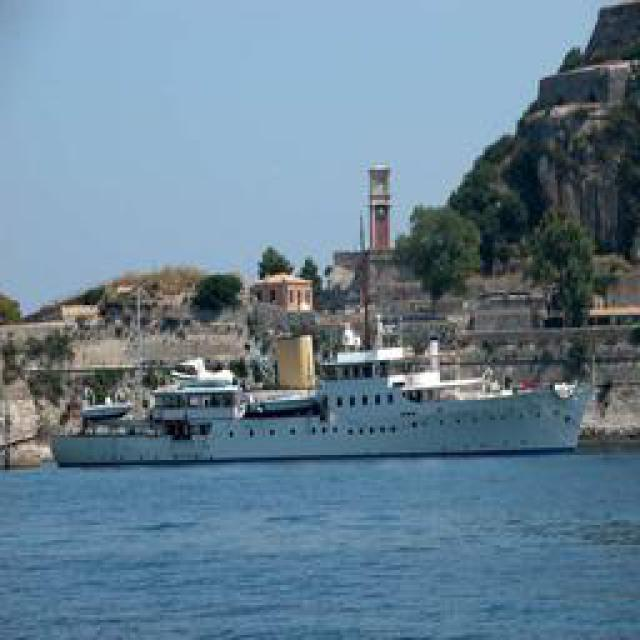Ship: (62, 334, 580, 469)
